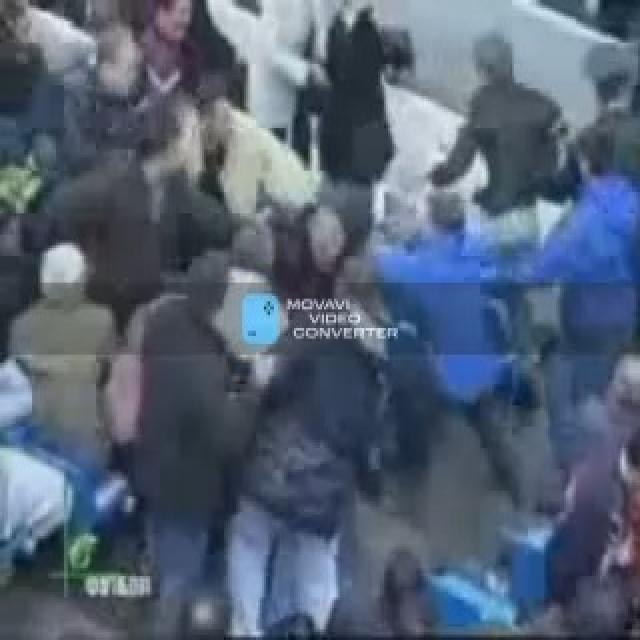non-voilence: (0, 0, 638, 637), (424, 29, 568, 219)
